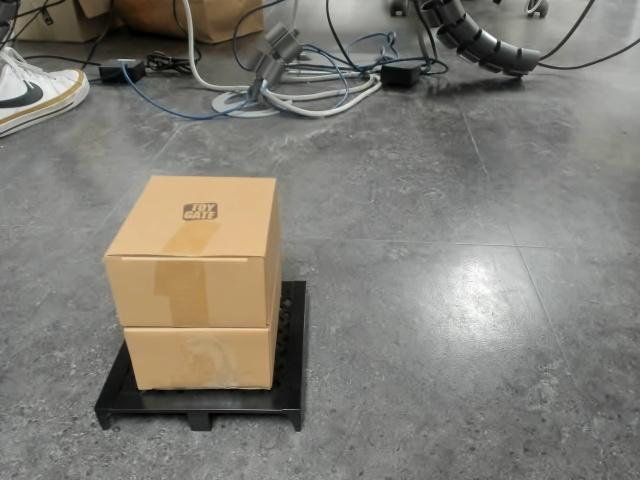box: (93, 174, 311, 433)
